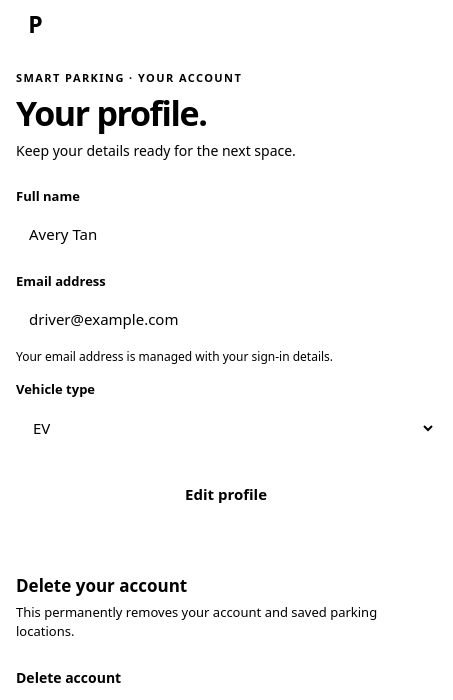
Test case: ProfilePage › restores original values when editing is cancelled
The width and height of the screenshot is (453, 700).
Expected: the field showing "Avery Tan" is shown, [16,212,436,258]
Step 1. Click the button "Edit profile" → click(226, 495), box [16,471,436,519]
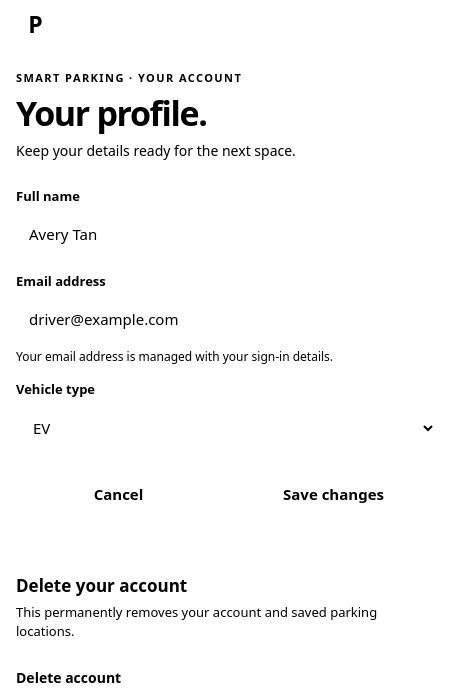
Step 2. Replace the text in the field labelled "Full name" with "Changed name" → (226, 235), box [16,212,436,258]
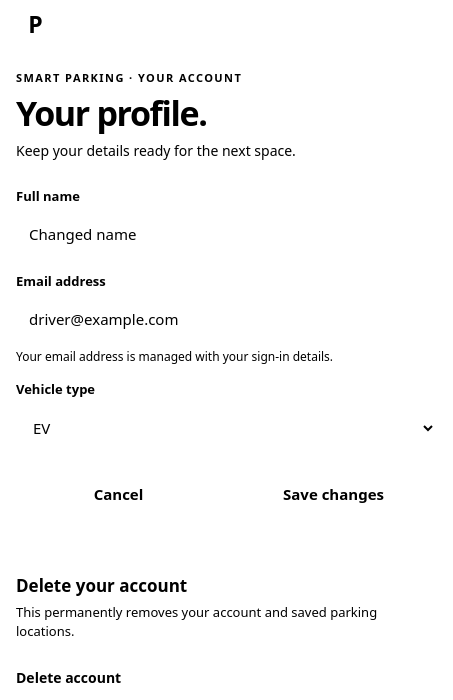
Step 3. Select "Hybrid" in the dropdown labelled "Vehicle type" → (226, 428), box [16,405,436,451]
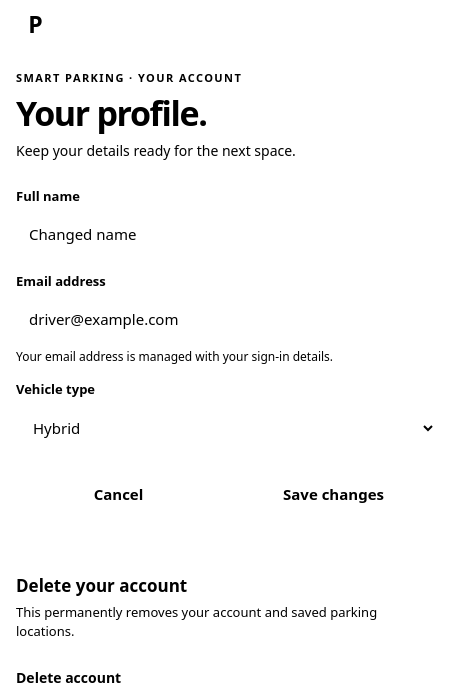
Step 4. Click the button "Cancel" → click(118, 495), box [16,471,221,519]
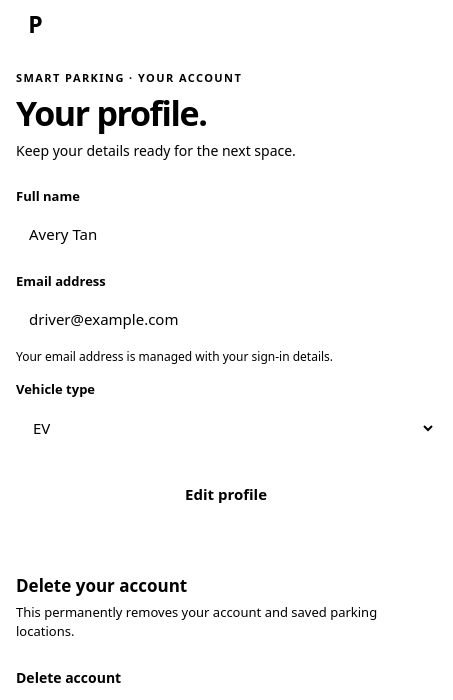
Now the field labelled "Full name" holds "Avery Tan", box [16,212,436,258]
Now the dropdown labelled "Vehicle type" is disabled, box [16,405,436,451]
